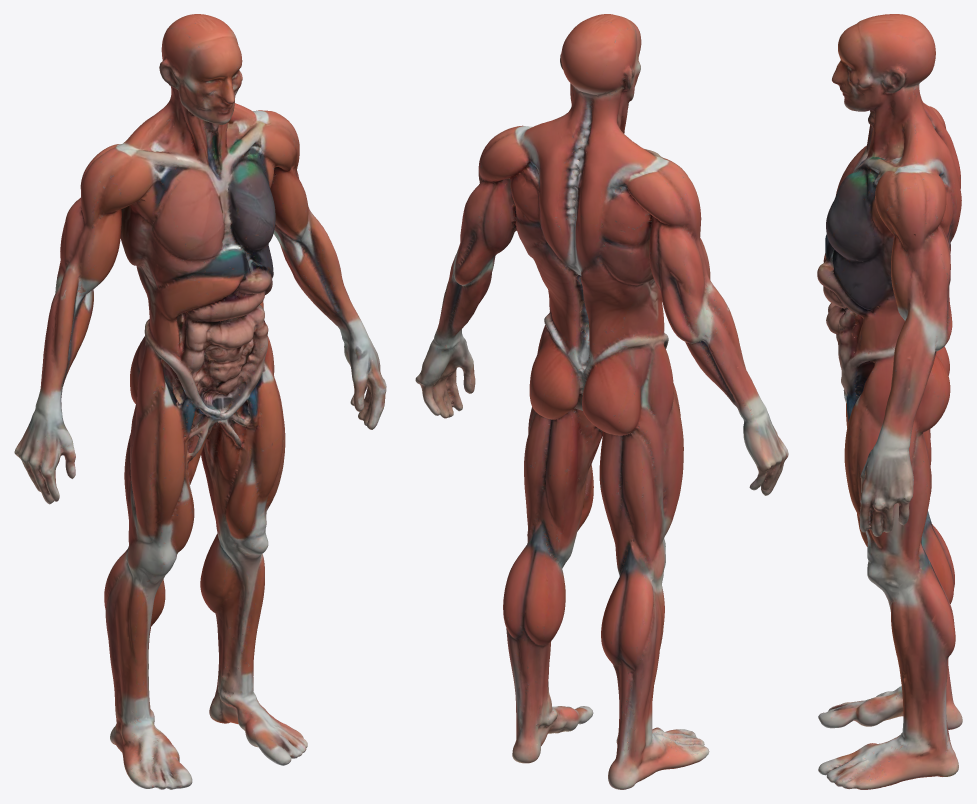
The model's file is human_body_optimized.glb.
3 views of the same model, side by side, from view 1: azimuth 30°, elevation 25°; view 2: azimuth 150°, elevation 25°; view 3: azimuth 270°, elevation 25° (orthographic).
Size of the model in its own units: 1.02 by 2 by 0.3604.
Materials: 1 (1 with a texture image).
